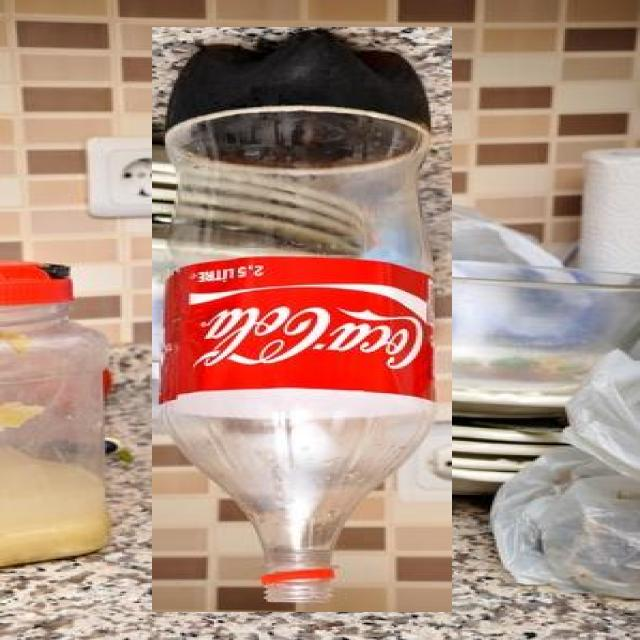coca-cola: (152, 27, 452, 612)
